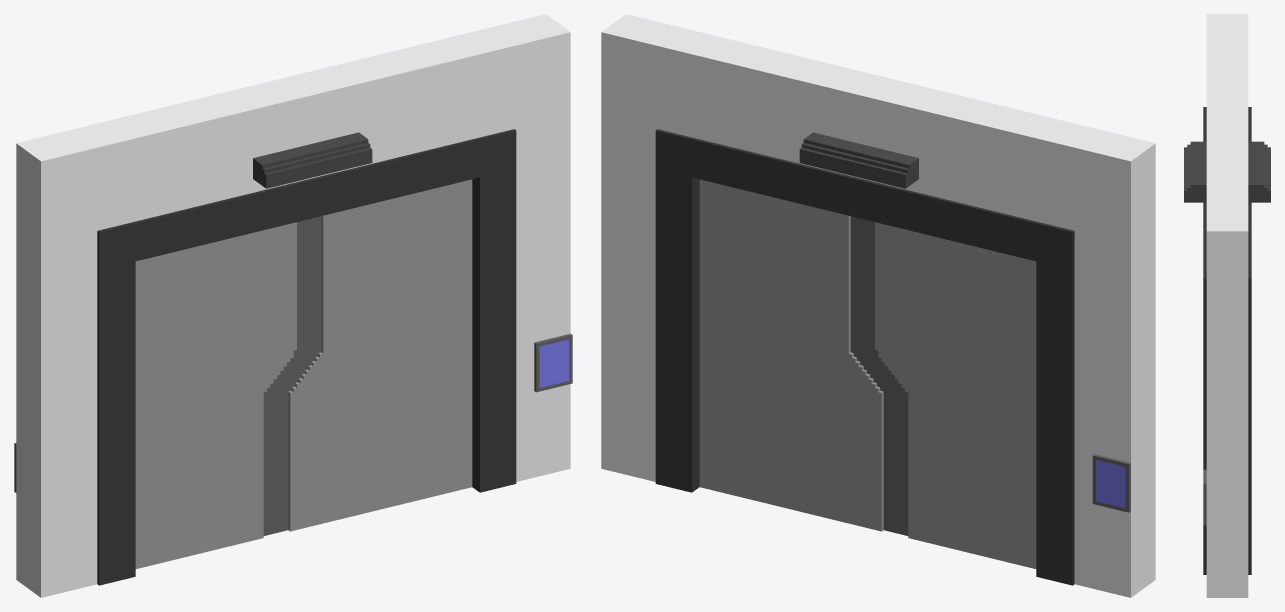
Rendered from Operating_room_Door3-3.fbx.
3 views of the same model, side by side, from view 1: azimuth 30°, elevation 25°; view 2: azimuth 150°, elevation 25°; view 3: azimuth 270°, elevation 25° (orthographic). The views are drawn at different scales.
Visible parts, largest first — view 1: Operating room Door3-3.003, Operating room Door3-3.008, Operating room Door3-3.002, Operating room Door3-3.001, Operating room Door3-3.009, Operating room Door3-3.014; view 2: Operating room Door3-3.003, Operating room Door3-3.008, Operating room Door3-3.002, Operating room Door3-3.001, Operating room Door3-3.009, Operating room Door3-3.007; view 3: Operating room Door3-3.009, Operating room Door3-3.003, Operating room Door3-3.001.
Part boxes in pixels (box(x1,y1,x2,y2)): Operating room Door3-3.003: box(73, 28, 516, 585); Operating room Door3-3.008: box(275, 179, 472, 533); Operating room Door3-3.002: box(135, 219, 308, 568); Operating room Door3-3.001: box(14, 129, 97, 597); Operating room Door3-3.009: box(490, 14, 572, 481); Operating room Door3-3.014: box(539, 339, 569, 387); Operating room Door3-3.003: box(655, 28, 1098, 585); Operating room Door3-3.008: box(699, 179, 896, 533); Operating room Door3-3.002: box(863, 219, 1036, 568); Operating room Door3-3.001: box(1074, 129, 1155, 597); Operating room Door3-3.009: box(601, 14, 681, 481); Operating room Door3-3.007: box(1096, 459, 1125, 508); Operating room Door3-3.009: box(1203, 208, 1248, 597); Operating room Door3-3.003: box(1184, 37, 1270, 574); Operating room Door3-3.001: box(1206, 14, 1248, 36).
Size of the model in its own units: 1600 by 1260 by 270.
